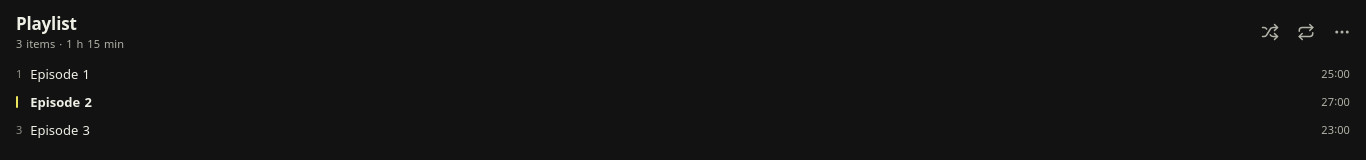
Test case: the rows › are removed with Delete, and Undo puts the item back where it was
Later steps or results of the test are not shown.
Click the option "1 Episode 1 25:00": click(59, 73) [8,60,1358,88]
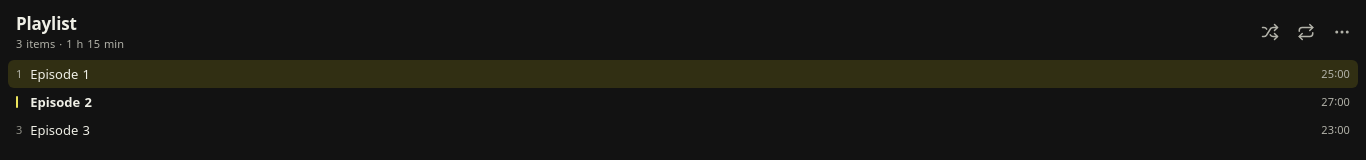
Press Delete
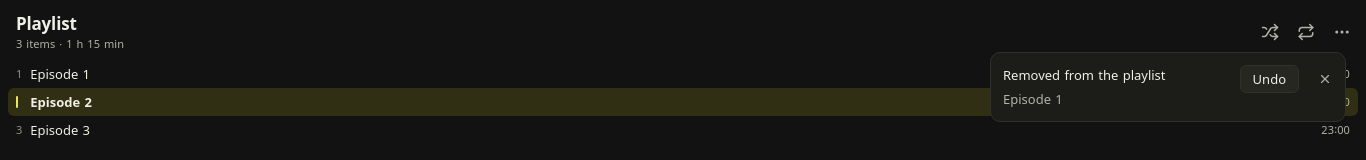
Expected: the text "Removed from the playlist" is shown, [1003,66,1166,84]
